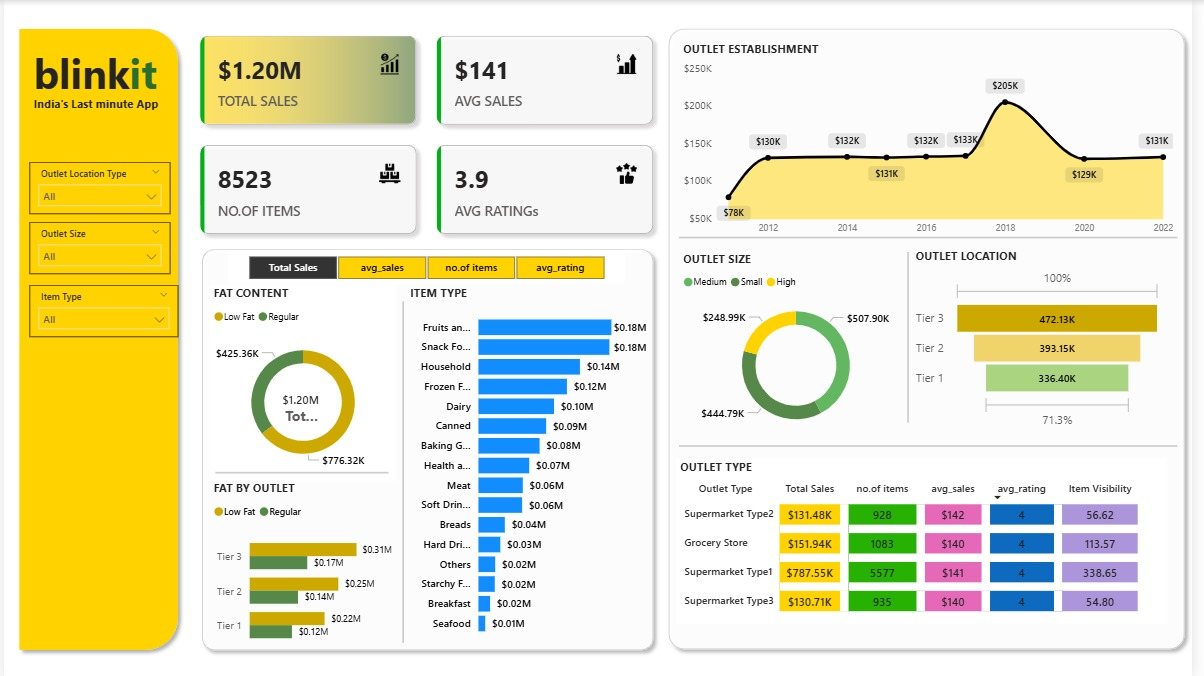

The page's visual inventory and layout, read from the dashboard file:
{"tool":"powerbi","page":{"name":"Blinkit project","canvas":[1400,800],"ordinal":0},"visuals":[{"type":"shape","box":[9.4,25.5,205.1,750],"z":0},{"type":"textbox","box":[29.5,46.9,166.2,76.4],"z":1000},{"type":"textbox","box":[29.5,107.2,176.9,30.8],"z":2000},{"type":"cardVisual","fields":{"Data":["BlinkIT Grocery Data.Total Sales","BlinkIT Grocery Data.avg_sales","BlinkIT Grocery Data.no.of items","BlinkIT Grocery Data.avg_rating"]},"box":[214.5,25.5,569.7,269.4],"z":3000},{"type":"shape","box":[223.9,284.2,549.6,490.6],"z":4000},{"type":"donutChart","title":"FAT CONTENT","fields":{"Y":["BlinkIT Grocery Data.Total Sales"],"Category":["BlinkIT Grocery Data.Item Fat Content"]},"box":[241.3,335.1,219.8,230.6],"z":5000},{"type":"slicer","fields":{"Values":["Metrics.Metrics"]},"box":[264.1,294.9,467.8,40.2],"z":6000},{"type":"cardVisual","fields":{"Data":["BlinkIT Grocery Data.Total Sales"]},"box":[309.7,443.7,81.8,67],"z":7000},{"type":"clusteredBarChart","title":"FAT BY OUTLET","fields":{"Y":["BlinkIT Grocery Data.Total Sales"],"Category":["BlinkIT Grocery Data.Outlet Location Type"],"Series":["BlinkIT Grocery Data.Item Fat Content"]},"box":[241.3,565.7,219.8,209.1],"z":7001},{"type":"shape","box":[249.3,540.2,203.8,32.2],"z":7002},{"type":"shape","box":[434.3,355.2,71,402.1],"z":7003},{"type":"barChart","title":"ITEM TYPE","fields":{"Category":["BlinkIT Grocery Data.Item Type"],"Y":["BlinkIT Grocery Data.Total Sales"]},"box":[473.2,335.1,288.2,422.3],"z":7004},{"type":"shape","box":[773.5,25.5,626,749.3],"z":7005},{"type":"lineChart","title":"OUTLET ESTABLISHMENT","fields":{"Y":["BlinkIT Grocery Data.Total Sales"],"Category":["BlinkIT Grocery Data.Outlet Establishment Year"]},"box":[794.9,46.9,587.1,237.3],"z":7006},{"type":"shape","box":[794.9,265.4,587.1,29.5],"z":7007},{"type":"donutChart","title":"OUTLET SIZE","fields":{"Y":["BlinkIT Grocery Data.Total Sales"],"Category":["BlinkIT Grocery Data.Outlet Size"]},"box":[794.9,294.9,274.8,225.2],"z":7008},{"type":"shape","box":[1049.6,296.2,30.8,201.1],"z":7009},{"type":"funnel","title":"OUTLET LOCATION","fields":{"Y":["Sum(BlinkIT Grocery Data.Sales)"],"Category":["BlinkIT Grocery Data.Outlet Location Type"]},"box":[1069.7,292.2,298.9,218.5],"z":7010},{"type":"shape","box":[794.9,510.7,587.1,29.5],"z":7011},{"type":"pivotTable","title":"OUTLET TYPE","fields":{"Rows":["BlinkIT Grocery Data.Outlet Type"],"Values":["BlinkIT Grocery Data.Total Sales","BlinkIT Grocery Data.no.of items","BlinkIT Grocery Data.avg_sales","BlinkIT Grocery Data.avg_rating","Sum(BlinkIT Grocery Data.Item Visibility)"]},"box":[790.9,540.2,577.8,194.4],"z":7012},{"type":"slicer","fields":{"Values":["BlinkIT Grocery Data.Outlet Location Type"]},"box":[29.5,190.3,166.2,61.7],"z":7013},{"type":"slicer","fields":{"Values":["BlinkIT Grocery Data.Outlet Size"]},"box":[29.5,261.4,166.2,61.7],"z":7014},{"type":"slicer","fields":{"Values":["BlinkIT Grocery Data.Item Type"]},"box":[29.5,335.1,175.6,61.7],"z":7015}]}

Visuals, with their boxes in screenshot pixels (x1, y1, x2, y2), scaled from the page's 1400x800 canvas onto the 1204x676 screenshot:
shape: pyautogui.locateOnScreen(8, 22, 184, 655)
textbox: pyautogui.locateOnScreen(25, 40, 168, 104)
textbox: pyautogui.locateOnScreen(25, 91, 178, 117)
cardVisual - BlinkIT Grocery Data.Total Sales x BlinkIT Grocery Data.avg_sales: pyautogui.locateOnScreen(184, 22, 674, 249)
shape: pyautogui.locateOnScreen(193, 240, 665, 655)
"FAT CONTENT" donutChart: pyautogui.locateOnScreen(208, 283, 397, 478)
slicer - Metrics.Metrics: pyautogui.locateOnScreen(227, 249, 629, 283)
cardVisual - BlinkIT Grocery Data.Total Sales: pyautogui.locateOnScreen(266, 375, 337, 432)
"FAT BY OUTLET" clusteredBarChart: pyautogui.locateOnScreen(208, 478, 397, 655)
shape: pyautogui.locateOnScreen(214, 456, 390, 484)
shape: pyautogui.locateOnScreen(373, 300, 435, 640)
"ITEM TYPE" barChart: pyautogui.locateOnScreen(407, 283, 655, 640)
shape: pyautogui.locateOnScreen(665, 22, 1203, 655)
"OUTLET ESTABLISHMENT" lineChart: pyautogui.locateOnScreen(684, 40, 1189, 240)
shape: pyautogui.locateOnScreen(684, 224, 1189, 249)
"OUTLET SIZE" donutChart: pyautogui.locateOnScreen(684, 249, 920, 439)
shape: pyautogui.locateOnScreen(903, 250, 929, 420)
"OUTLET LOCATION" funnel: pyautogui.locateOnScreen(920, 247, 1177, 432)
shape: pyautogui.locateOnScreen(684, 432, 1189, 456)
"OUTLET TYPE" pivotTable: pyautogui.locateOnScreen(680, 456, 1177, 621)
slicer - BlinkIT Grocery Data.Outlet Location Type: pyautogui.locateOnScreen(25, 161, 168, 213)
slicer - BlinkIT Grocery Data.Outlet Size: pyautogui.locateOnScreen(25, 221, 168, 273)
slicer - BlinkIT Grocery Data.Item Type: pyautogui.locateOnScreen(25, 283, 176, 335)
